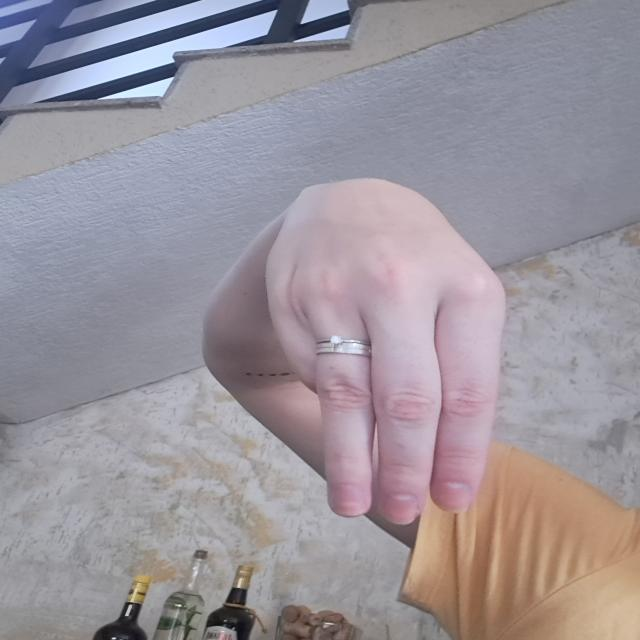M: (256, 184, 520, 545)
